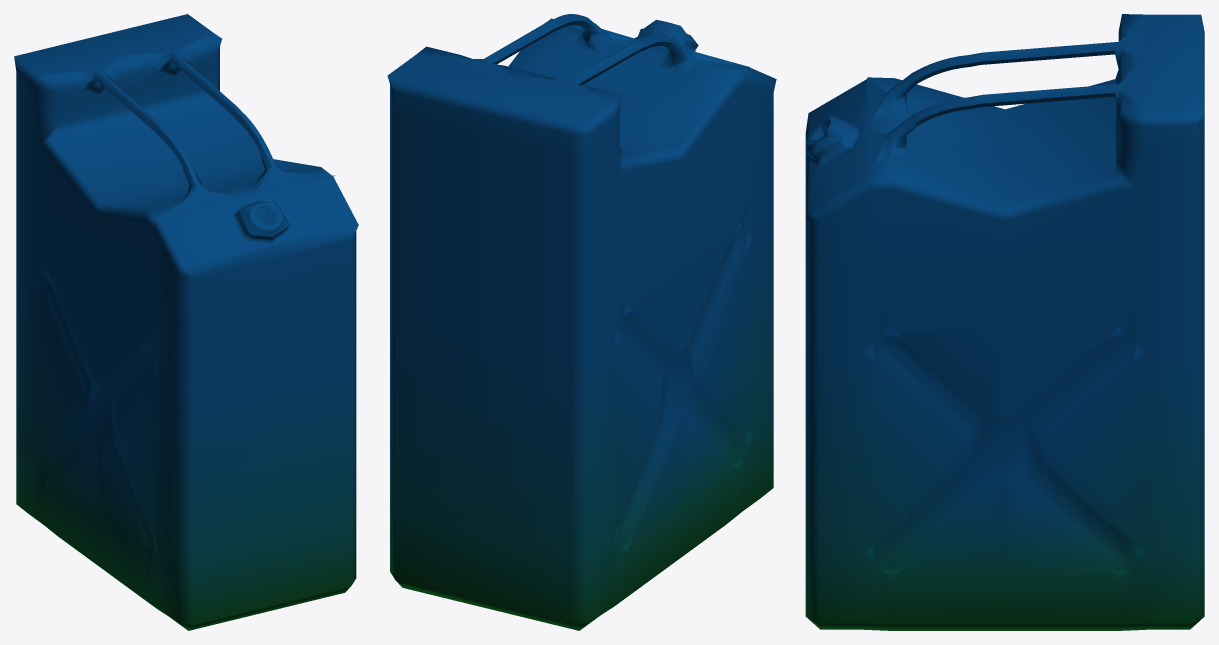
File: SM_Props_Jerican_01.fbx
3 renders of one model, left to right at view 1: azimuth 30°, elevation 25°; view 2: azimuth 150°, elevation 25°; view 3: azimuth 270°, elevation 25°, orthographic. The views are drawn at different scales.
Parts seen in each view (by area): view 1: transform27; view 2: transform27; view 3: transform27.
Boxes of the visible parts, x1,y1,x2,y2 form: transform27: (14,14,358,630); transform27: (387,14,776,630); transform27: (805,14,1204,630).
Bounding box in the file's own units: 14.65 × 35.75 × 24.68.
